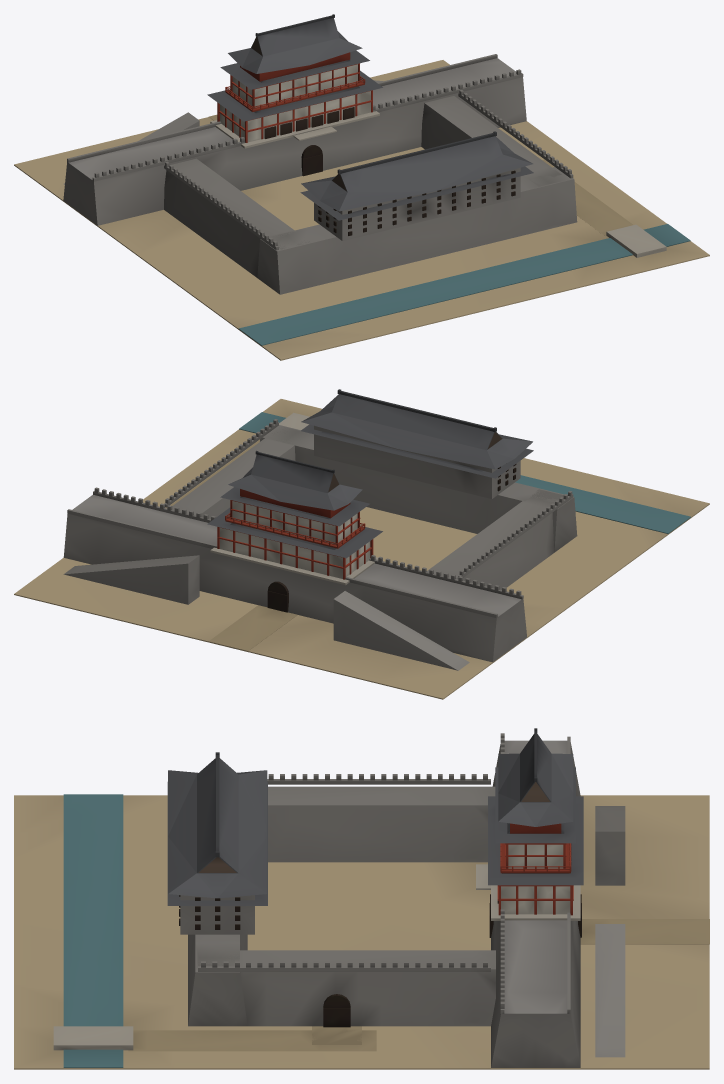
The model's file is ming-south-gate.glb.
3 views of the same model, one above another, from view 1: azimuth 30°, elevation 25°; view 2: azimuth 150°, elevation 25°; view 3: azimuth 270°, elevation 25° (orthographic). The views are drawn at different scales.
Visible parts, largest first — view 1: p0_walls, p2_roofs, p1_halls; view 2: p0_walls, p2_roofs, p1_halls; view 3: p0_walls, p2_roofs, p1_halls.
Boxes of the visible parts, x1,y1,x2,y2 form: p0_walls: (14, 54, 709, 360); p2_roofs: (207, 14, 533, 220); p1_halls: (210, 63, 520, 240); p0_walls: (14, 399, 709, 699); p2_roofs: (207, 389, 533, 558); p1_halls: (210, 425, 520, 612); p0_walls: (14, 733, 709, 1069); p2_roofs: (167, 728, 583, 905); p1_halls: (179, 843, 581, 1027).
Bounding box in the file's own units: 130 × 39.9 × 140.
